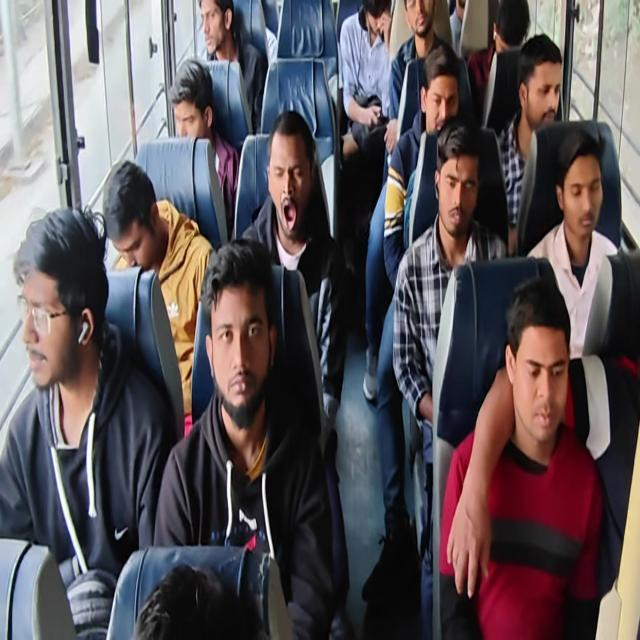person: (10, 219, 105, 393), (198, 245, 278, 415), (134, 568, 278, 640), (507, 285, 566, 435), (98, 162, 169, 276), (266, 130, 315, 246), (558, 142, 607, 242), (434, 141, 476, 237), (167, 66, 214, 151), (346, 0, 399, 53), (192, 0, 235, 59), (529, 54, 562, 130), (424, 72, 456, 142), (497, 3, 534, 62), (402, 0, 437, 39), (449, 0, 476, 24)
